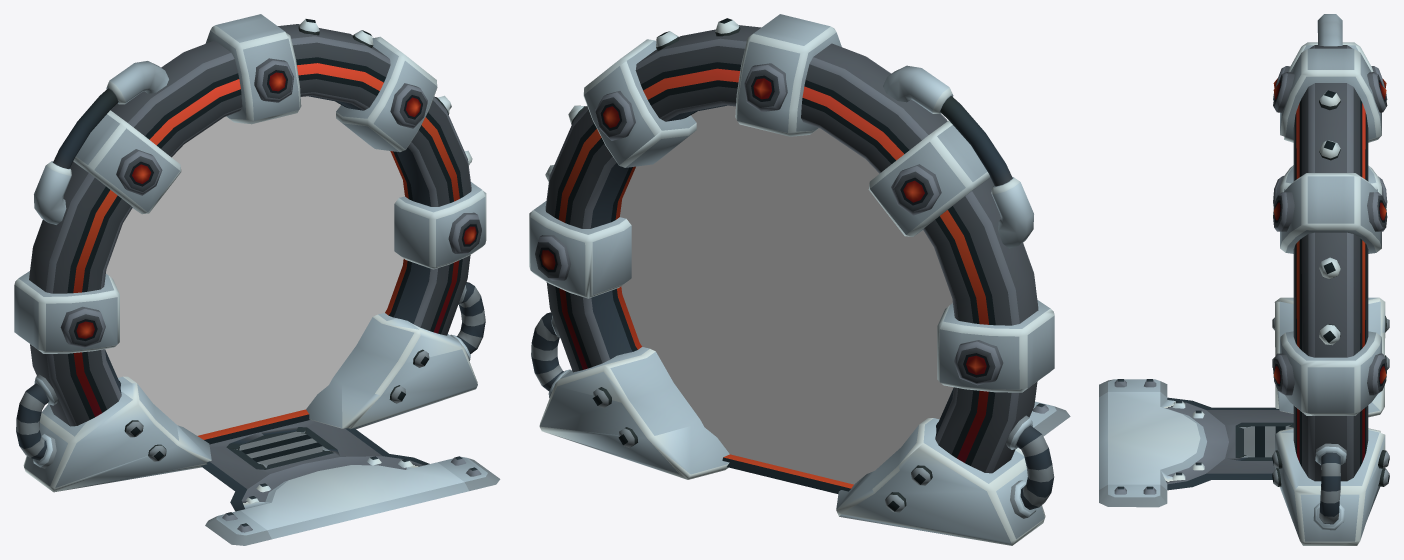
Rendered from Portal.fbx.
3 views of the same model, side by side, from view 1: azimuth 30°, elevation 25°; view 2: azimuth 150°, elevation 25°; view 3: azimuth 270°, elevation 25° (orthographic). The views are drawn at different scales.
Visible parts, largest first — view 1: model_0, Circle; view 2: model_0, Circle; view 3: model_0.
Boxes of the visible parts, x1=… form: model_0: x1=14, y1=14, x2=500, y2=545; Circle: x1=105, y1=96, x2=404, y2=435; model_0: x1=529, y1=14, x2=1070, y2=545; Circle: x1=620, y1=105, x2=953, y2=484; model_0: x1=1099, y1=14, x2=1389, y2=545.
Bounding box in the file's own units: 836 × 690 × 470.
Materials: 2 (1 with a texture image).
